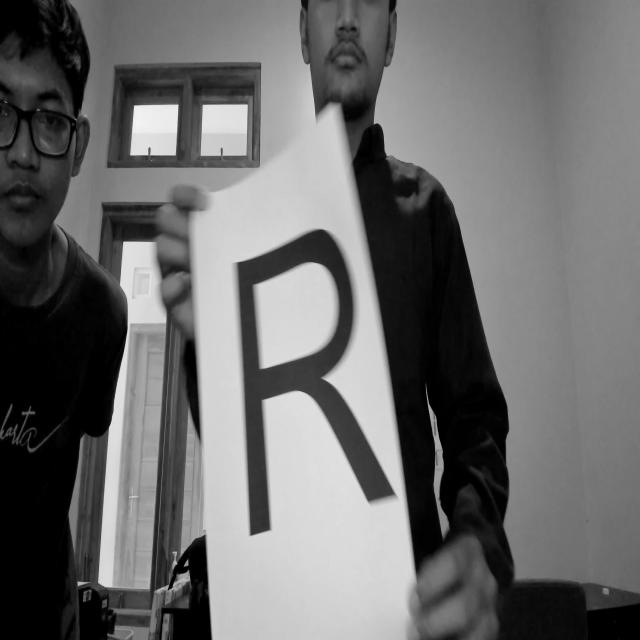r: (224, 208, 406, 578)
